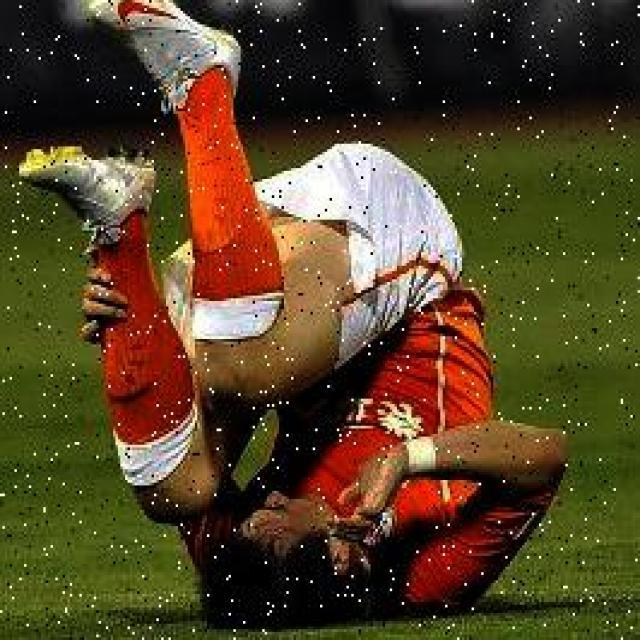fall: (46, 25, 544, 612)
